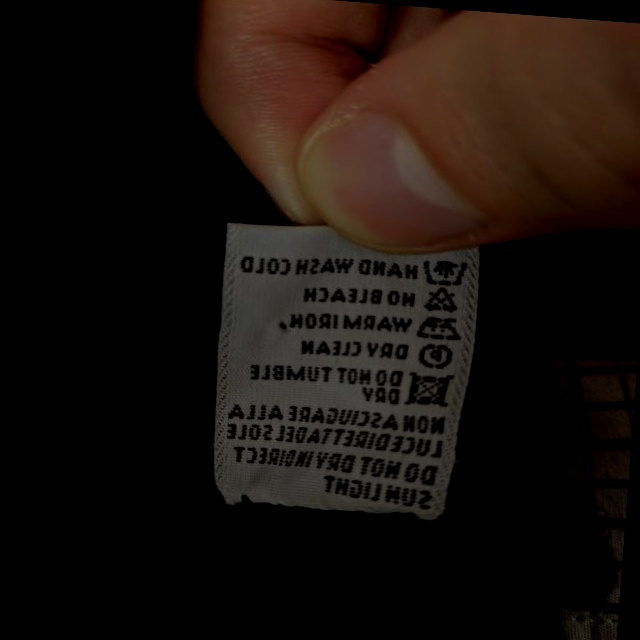DN_bleach: (424, 285, 460, 316)
DN_tumble_dry: (404, 368, 455, 412)
dry_clean_any_solvent_except_trichloroethylene: (417, 343, 452, 370)
hand_wash: (421, 258, 470, 287)
iron_medium: (414, 312, 461, 343)
